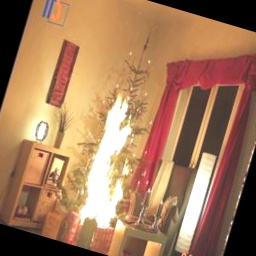fire: (67, 74, 167, 233)
